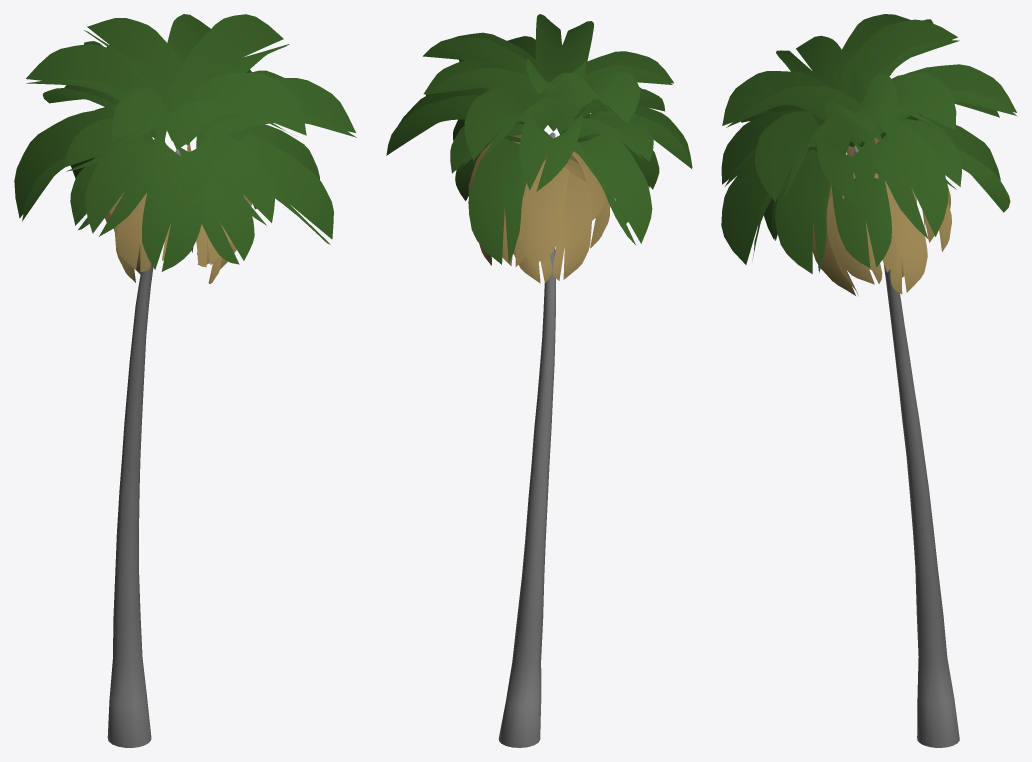
Rendered from SM_palm_tree_desert_04.fbx.
3 renders of one model, left to right at view 1: azimuth 30°, elevation 25°; view 2: azimuth 150°, elevation 25°; view 3: azimuth 270°, elevation 25°, orthographic. The views are drawn at different scales.
Visible parts, largest first — view 1: Object32259; view 2: Object32259; view 3: Object32259.
Boxes of the visible parts, x1,y1,x2,y2 form: Object32259: [14, 14, 356, 747]; Object32259: [386, 14, 692, 747]; Object32259: [721, 14, 1016, 747].
Size of the model in its own units: 131 by 334 by 129.
